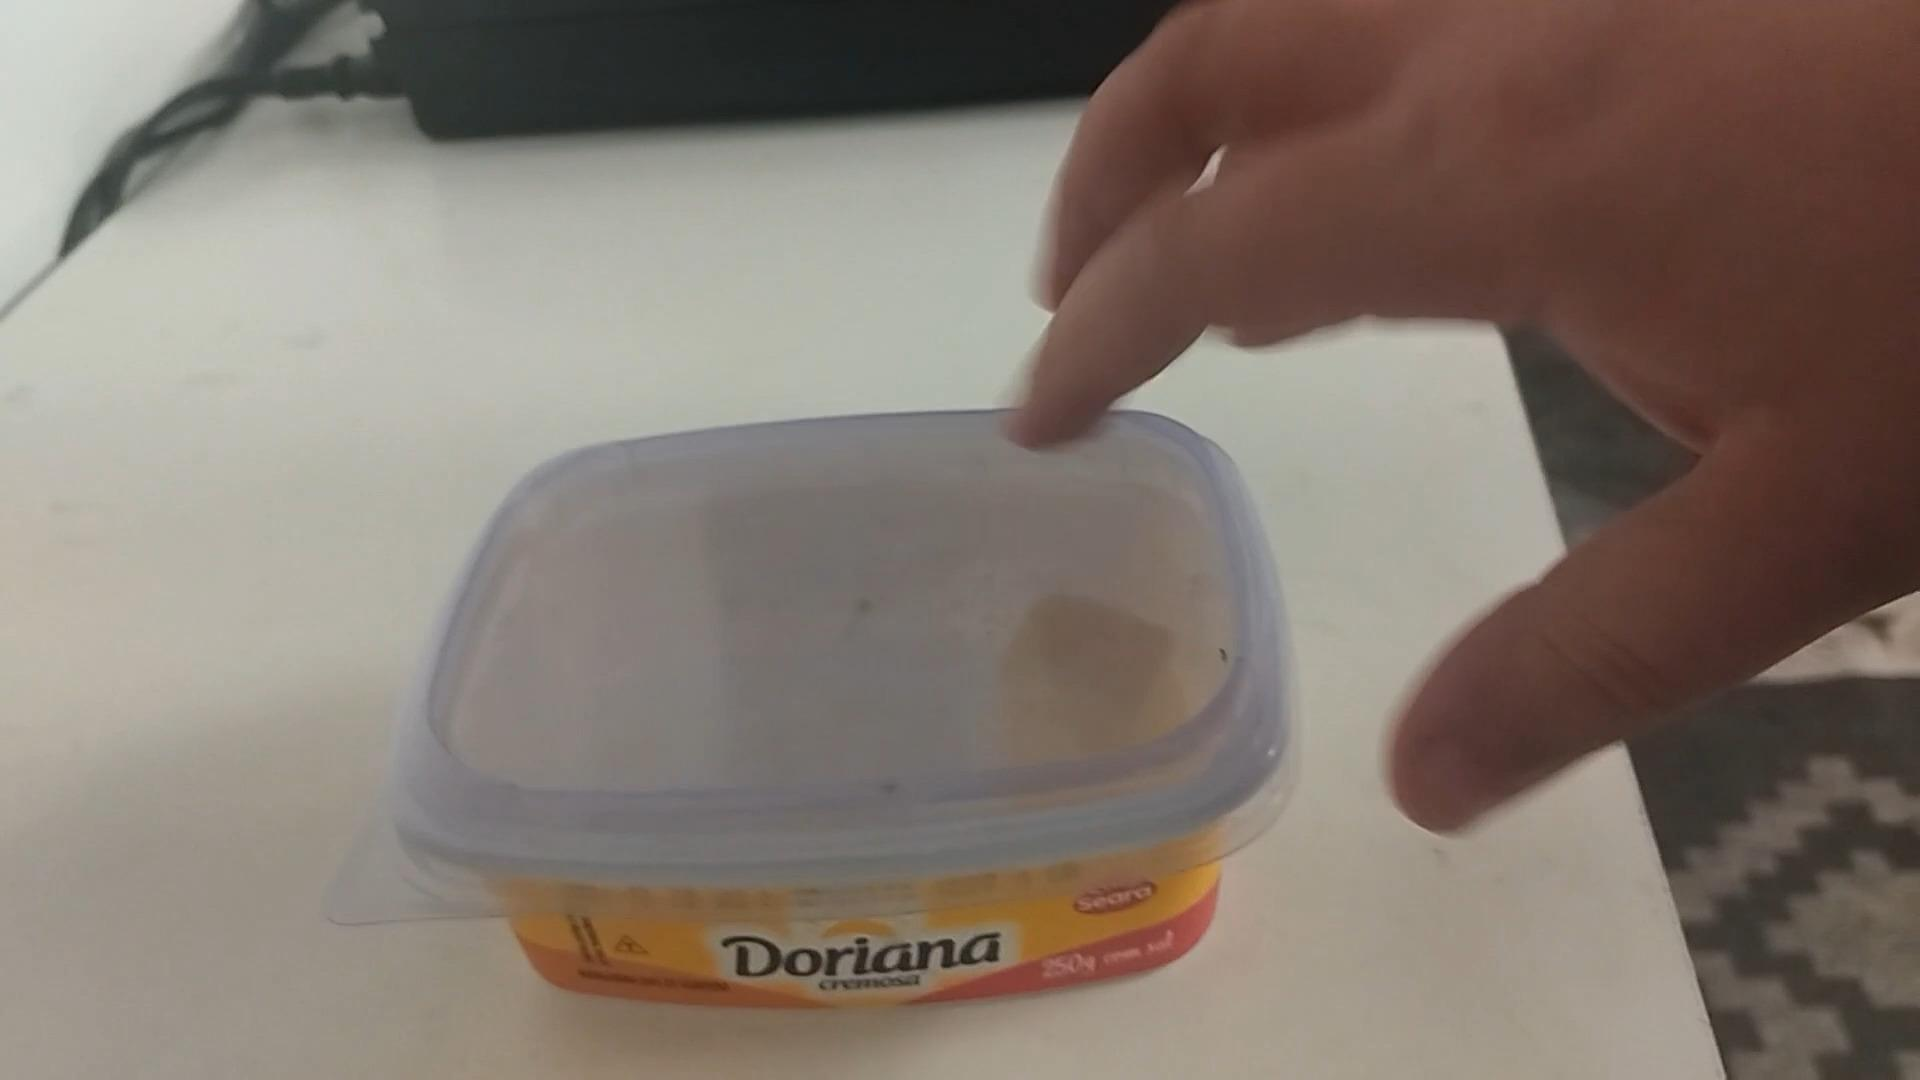butter: (334, 409, 1290, 1009)
